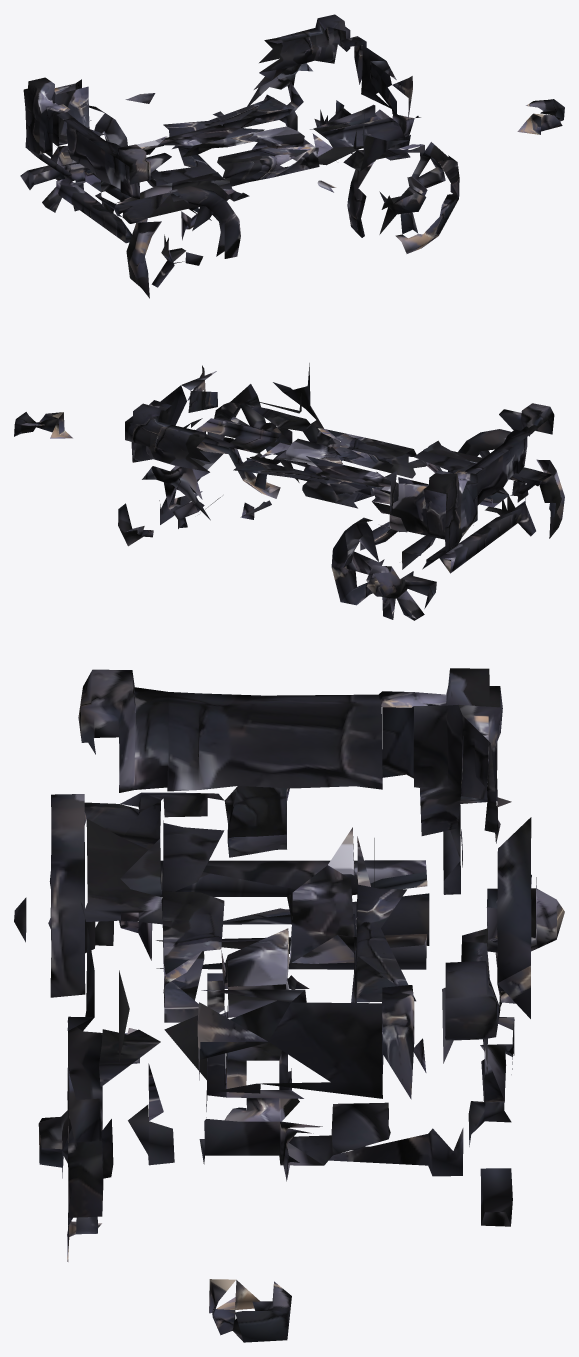
The model's file is RIP0 (2).obj.
3 renders of one model, top to bottom at view 1: azimuth 30°, elevation 25°; view 2: azimuth 150°, elevation 25°; view 3: azimuth 270°, elevation 25°, orthographic. The views are drawn at different scales.
Visible parts, largest first — view 1: RIP0; view 2: RIP0; view 3: RIP0.
Boxes of the visible parts, bbox=[...] form: RIP0: bbox=[20, 14, 564, 298]; RIP0: bbox=[14, 363, 564, 620]; RIP0: bbox=[14, 668, 564, 1342].
Size of the model in its own units: 1 by 0.3203 by 0.4999.
